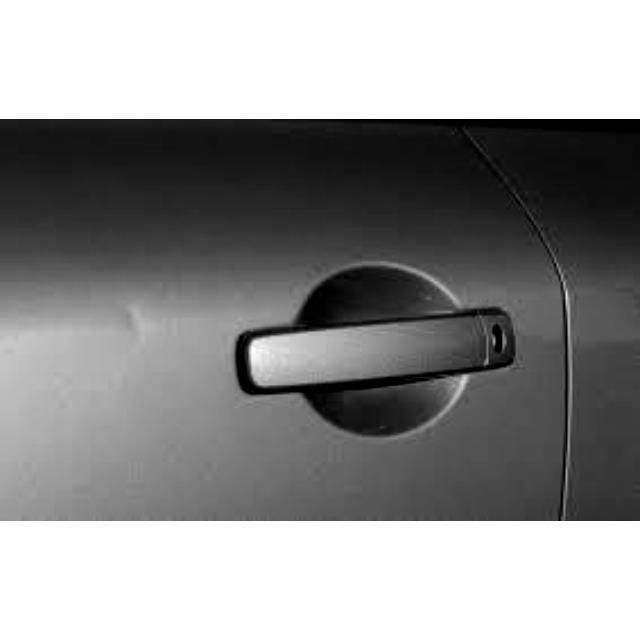doorouter-dent: (1, 131, 570, 519)
